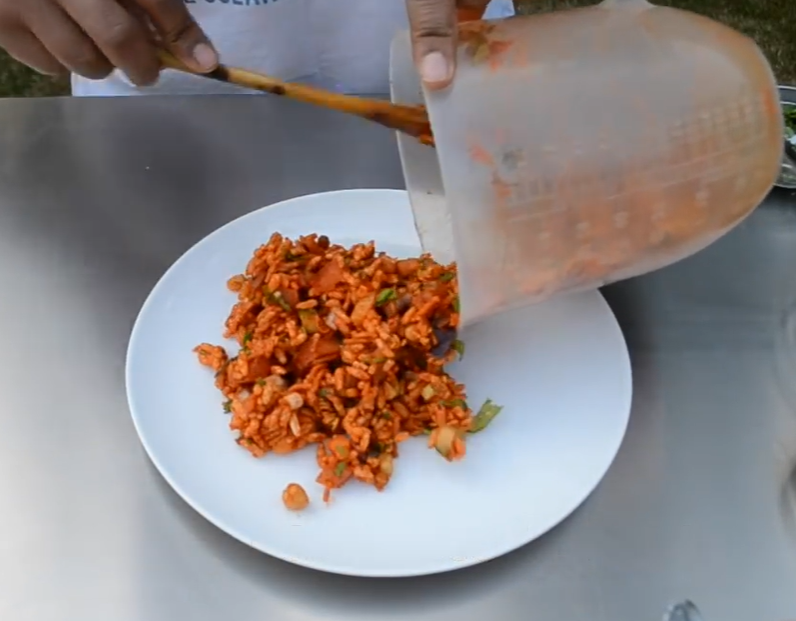chatpate: (226, 230, 456, 480)
